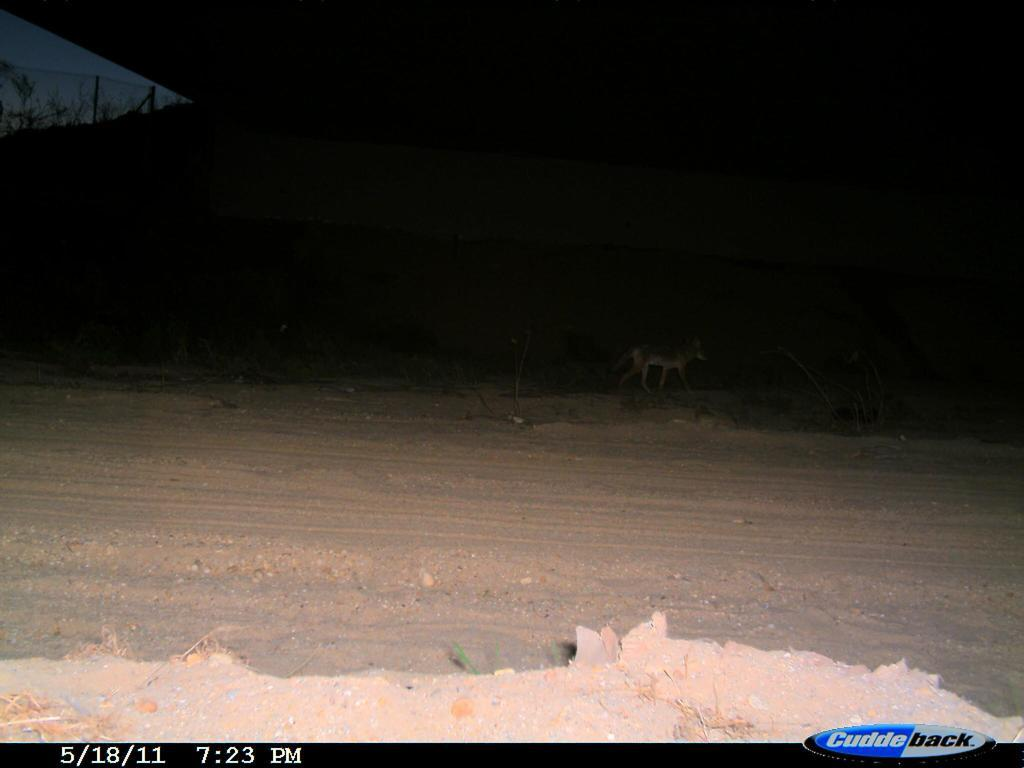coyote: (578, 323, 733, 419)
